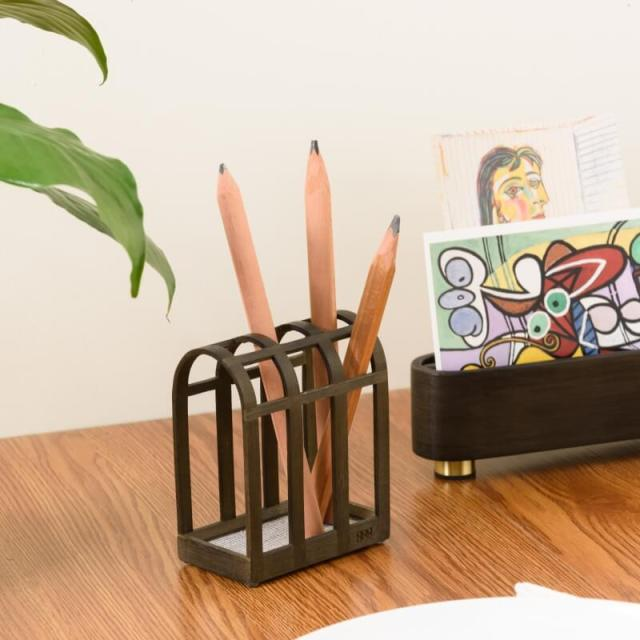pencil: (210, 155, 334, 548), (306, 207, 401, 531), (300, 128, 341, 527)
